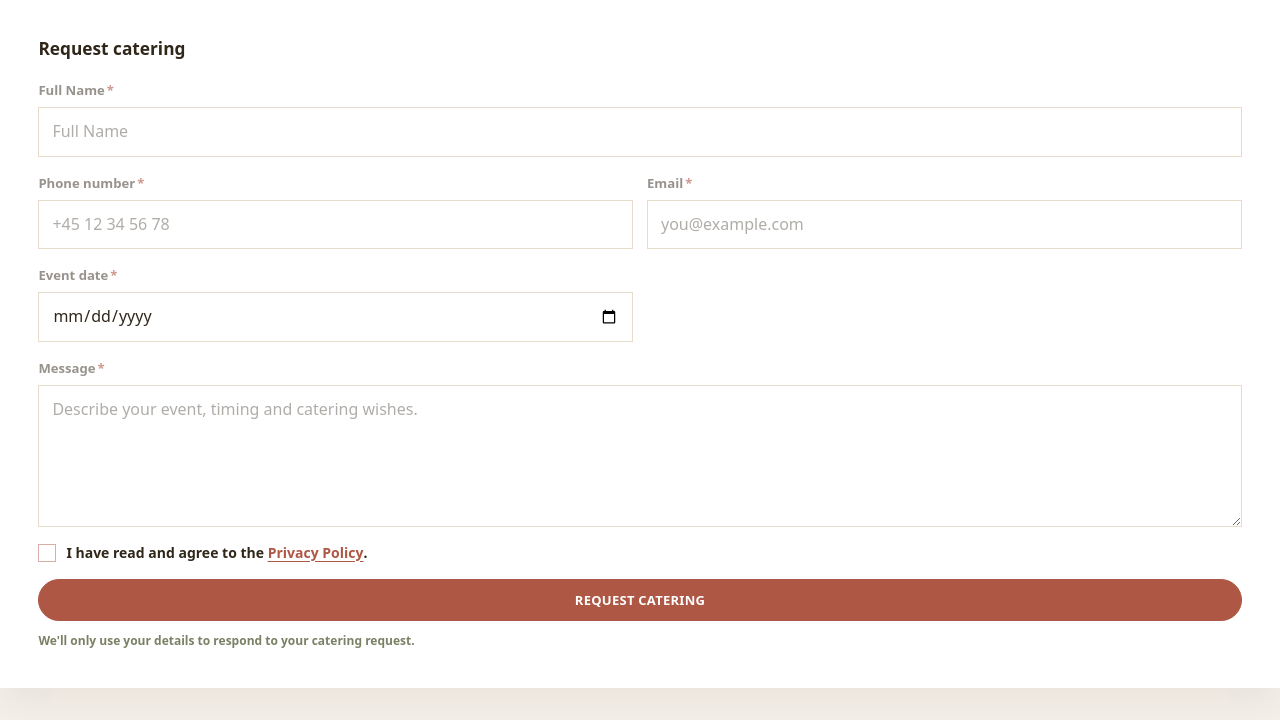
Test case: CateringInquiryForm — unified Formspree delivery › a failed submit: no success, generic localized error, values preserved
Type "Sofia Berg" into the field labelled "Full Name*". click: (640, 132)
box: [38,107,1242,156]
Type "+45 55 55 55 55" into the field labelled "Phone number*". click: (336, 224)
box: [38,200,633,249]
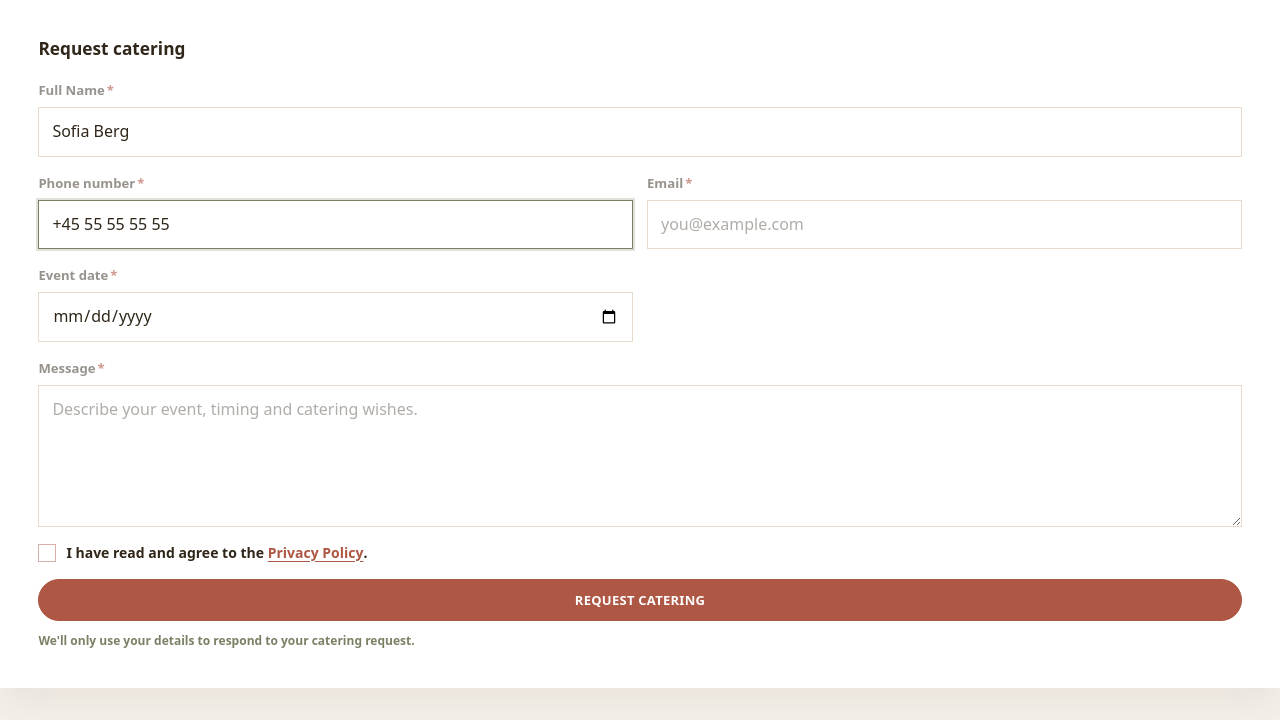
Type "sofia@example.com" into the field labelled "Email*". click: (944, 224)
box: [647,200,1242,249]
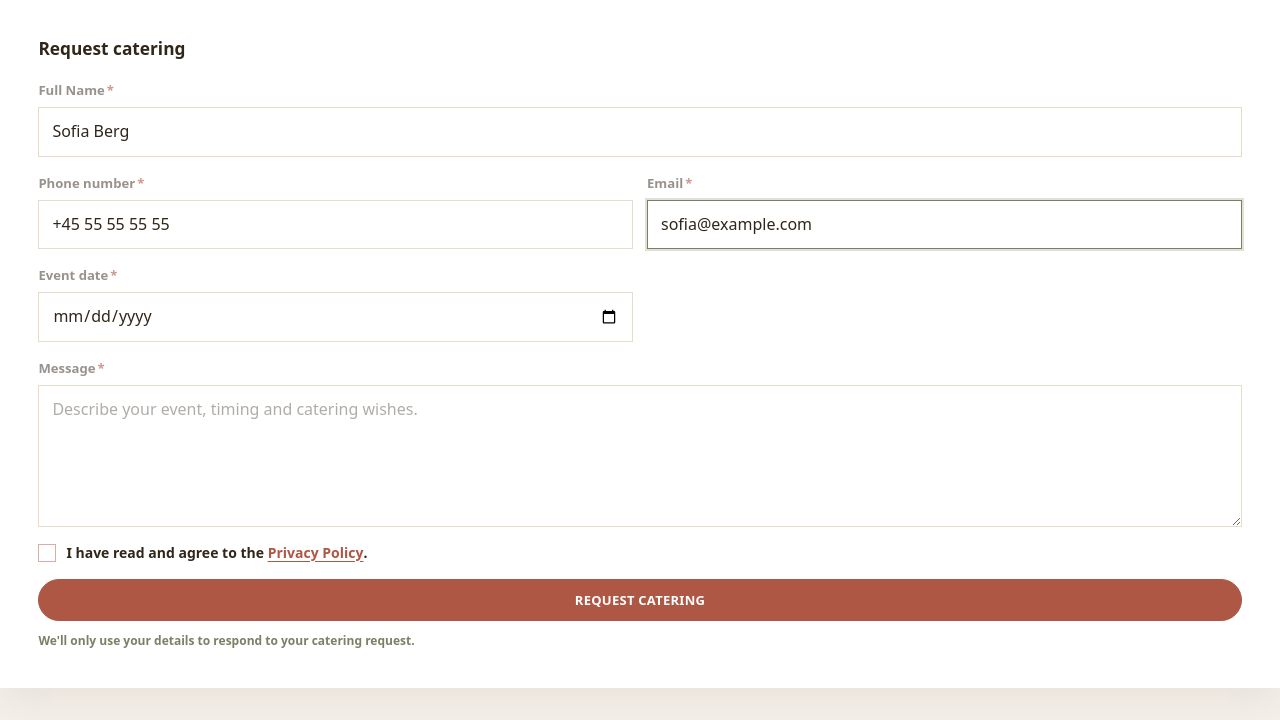
Type "2099-05-01" into the date field labelled "Event date*". click: (336, 317)
box: [38,292,633,342]
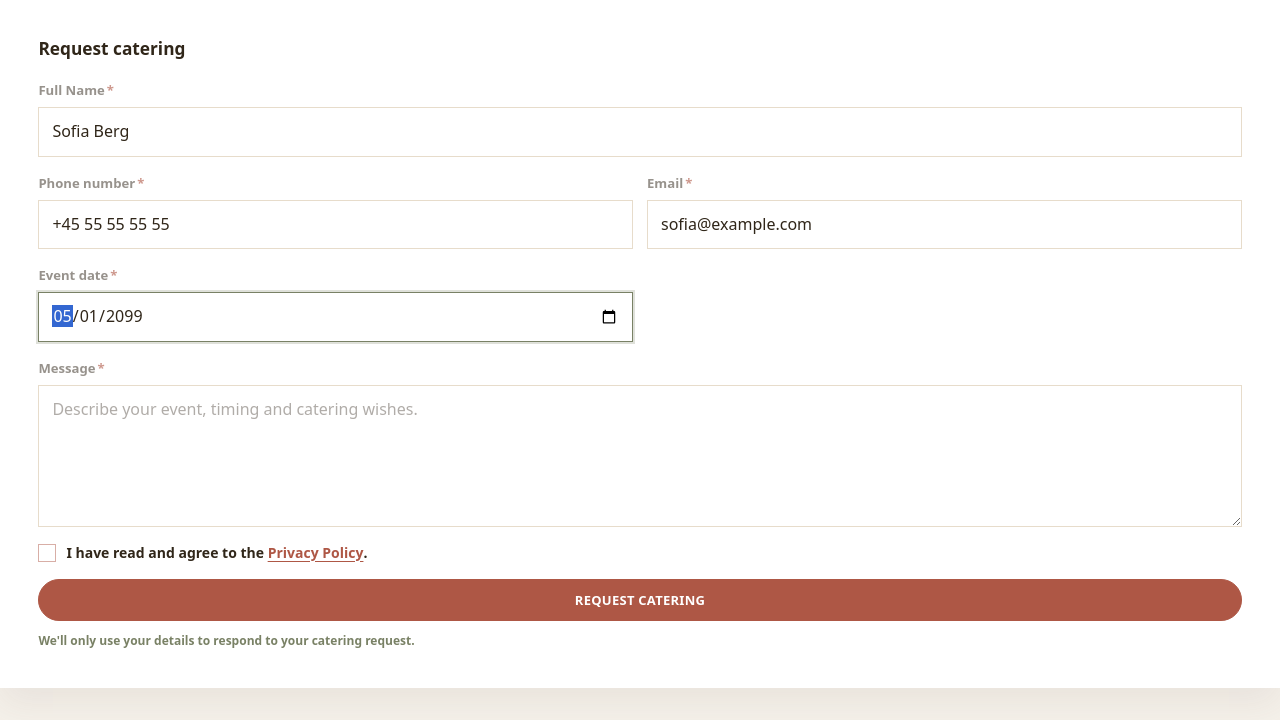
Type "Lunch for 30 people" into the text box labelled "Message*". click: (640, 456)
box: [38,385,1242,527]
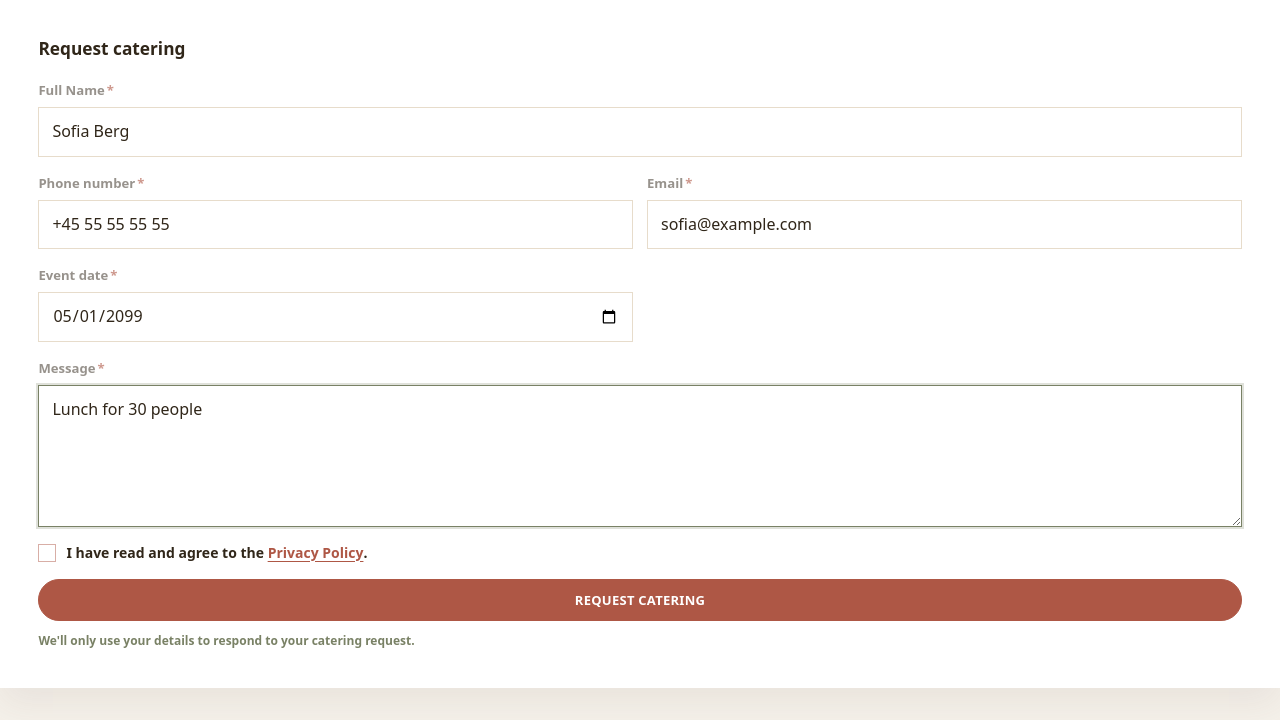
Click the checkbox. click: (47, 553)
box: [38,544,56,562]
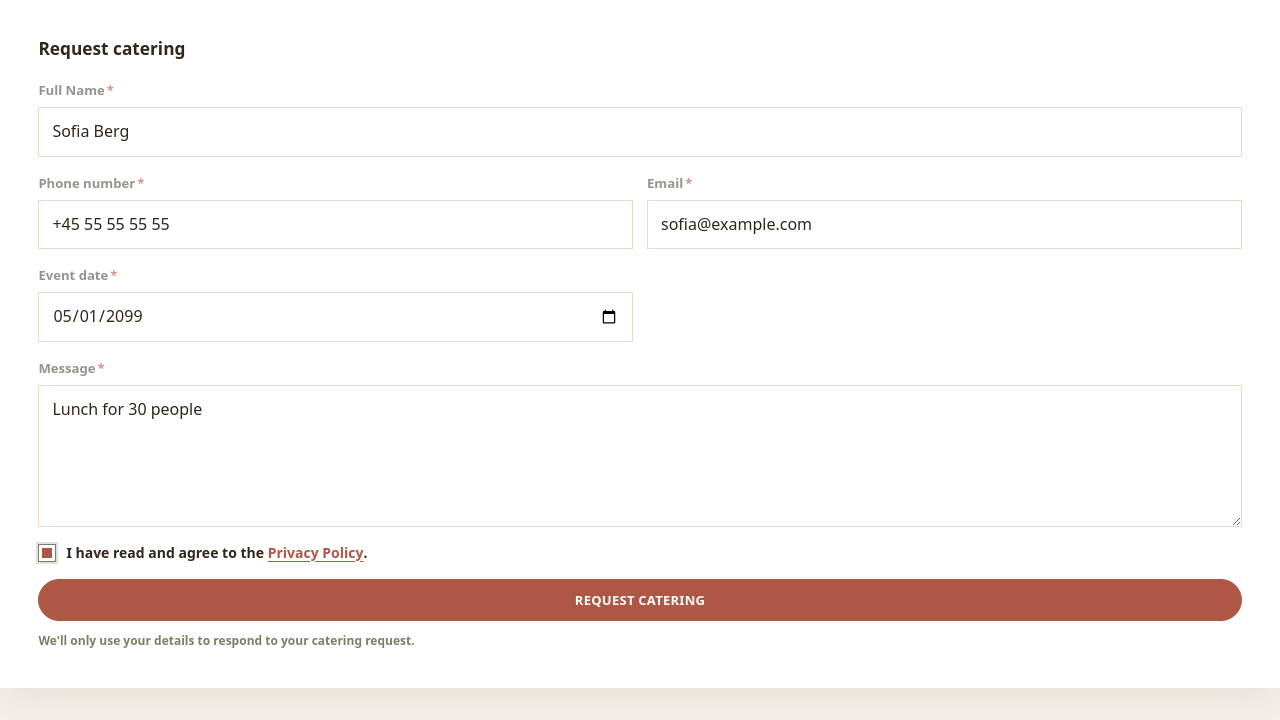
Click the button "Request Catering". click: (640, 600)
box: [38,579,1242,621]
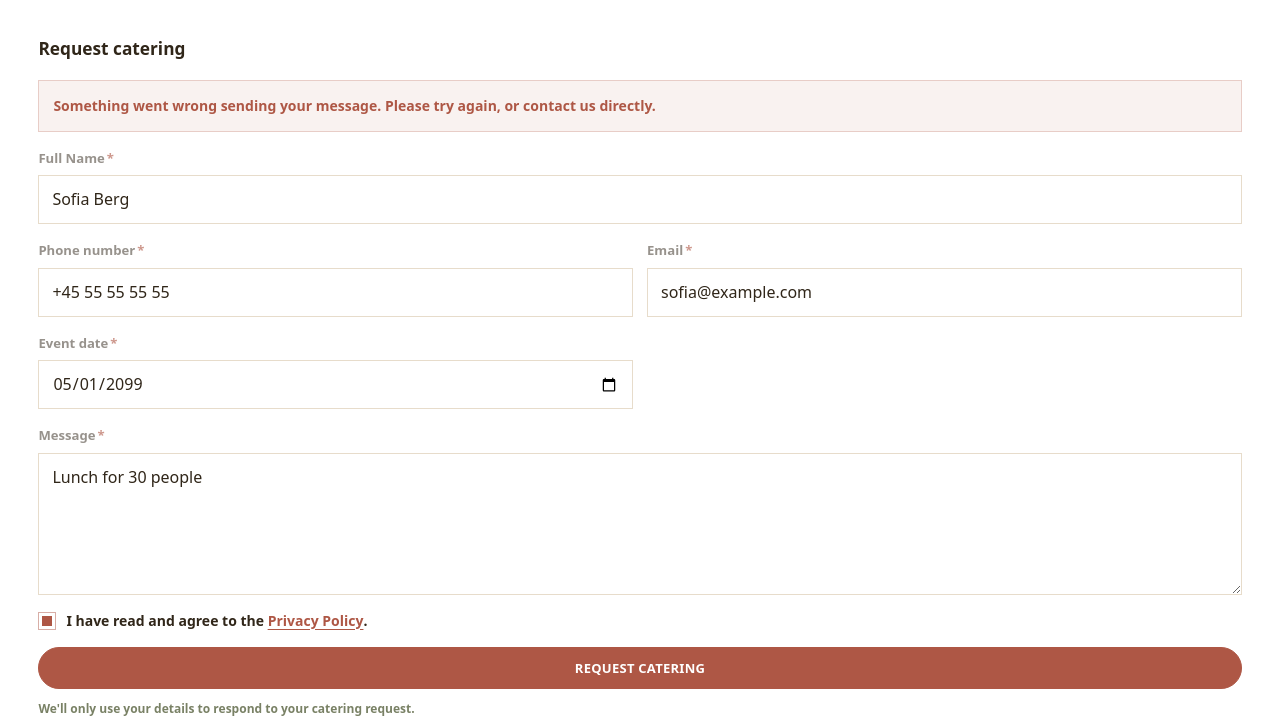
Now the text "Something went wrong sending" is shown, box [53,96,656,115]
